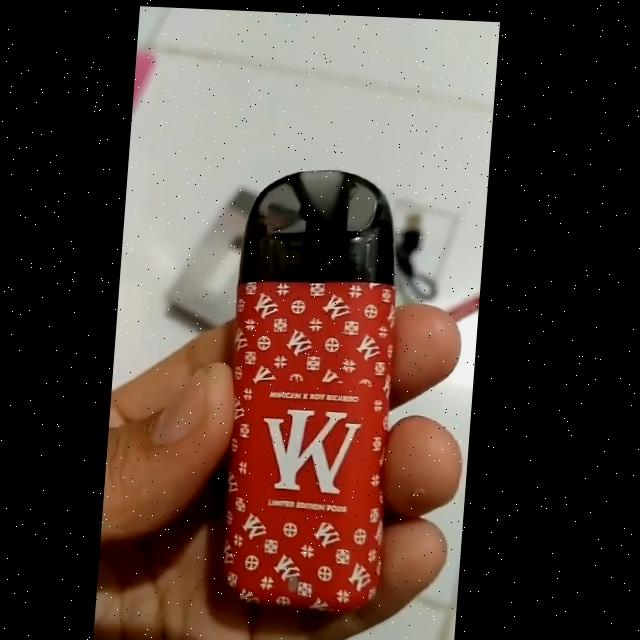vape: (225, 160, 413, 610)
